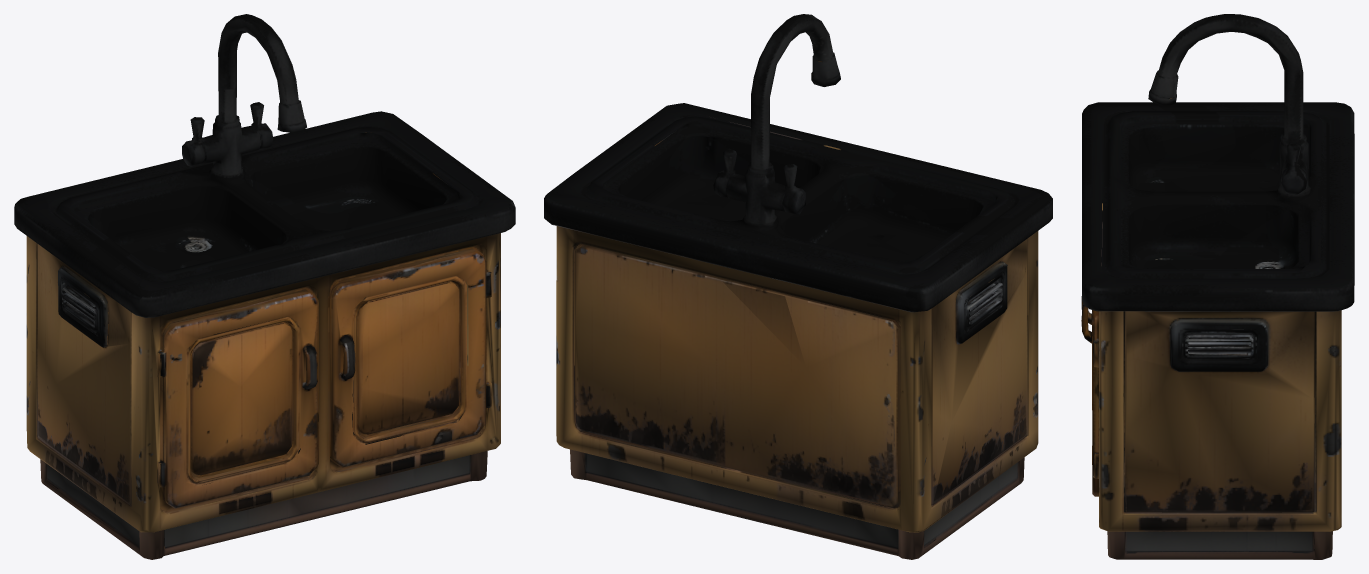
Rendered from sink_unit.glb.
The picture shows the model from 3 angles, left to right: view 1: azimuth 30°, elevation 25°; view 2: azimuth 150°, elevation 25°; view 3: azimuth 270°, elevation 25°; orthographic projection.
Visible parts, largest first — view 1: sink_unit; view 2: sink_unit; view 3: sink_unit.
Part boxes in pixels (x1=…): sink_unit: x1=14, y1=14, x2=515, y2=559; sink_unit: x1=544, y1=14, x2=1052, y2=559; sink_unit: x1=1081, y1=14, x2=1354, y2=559.
Size of the model in its own units: 1.2 by 1.37 by 0.7349.
Materials: 1 (1 with a texture image).
